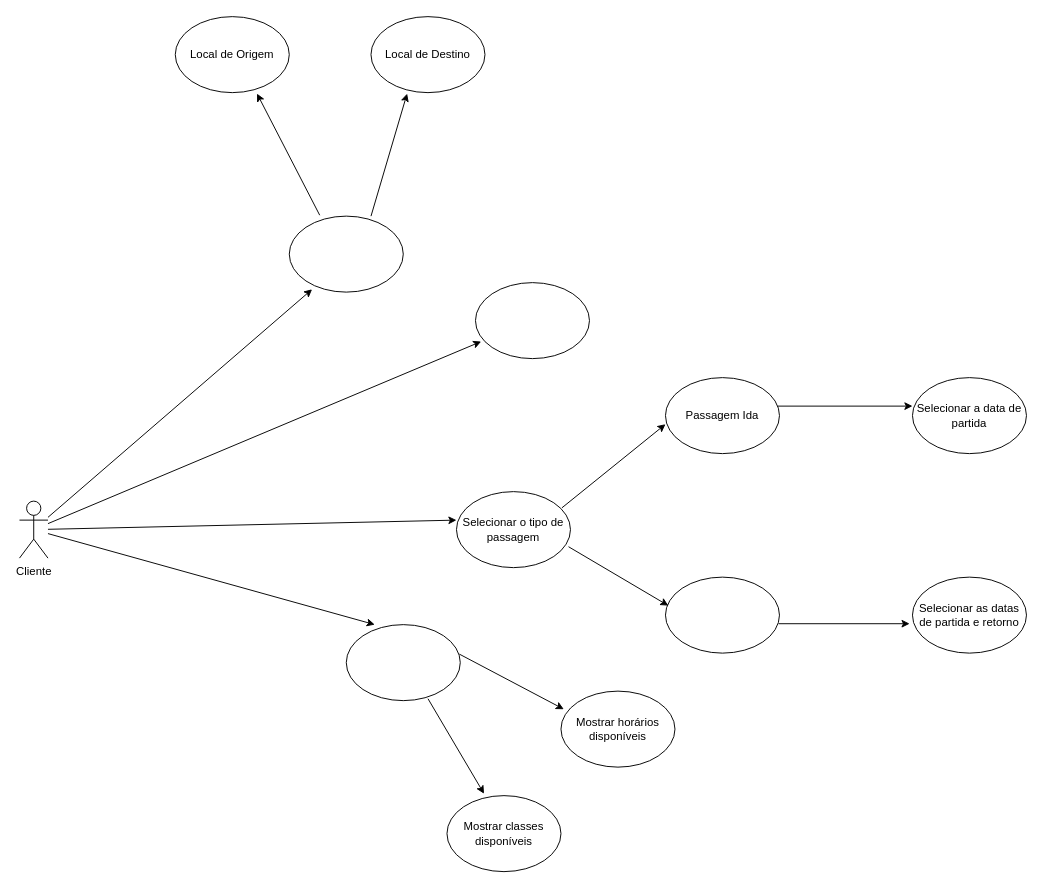
Some shapes in this 1043 by 888 pixel diagram are drawn without their labels. The shapes that lost their labels are listed below. From the top down, each one's box as (x1, y1, x2, y2) in pixels, then its label:
(288, 215, 403, 292): Selecionar local
(475, 282, 589, 359): Selecionar o tipo de pagamento
(665, 576, 779, 653): Passagem Ida e Volta
(345, 624, 460, 701): Pressionar o botão consultar
